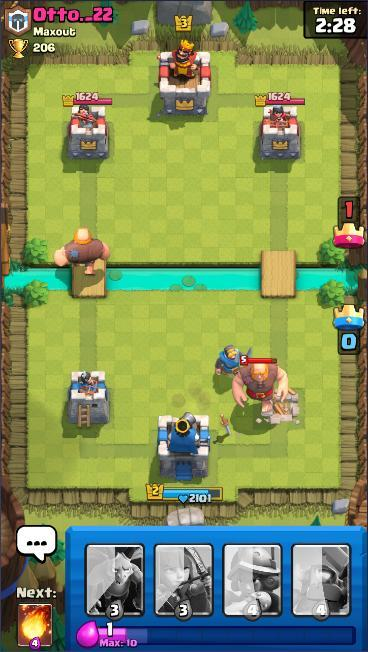ally_giant: (52, 228, 111, 276)
ally_knight: (214, 344, 254, 378)
enemy_giant: (231, 355, 289, 413)
